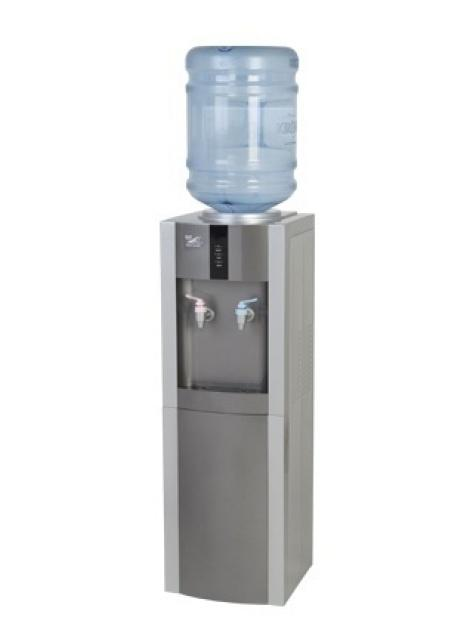Dispenser: (158, 43, 314, 606)
